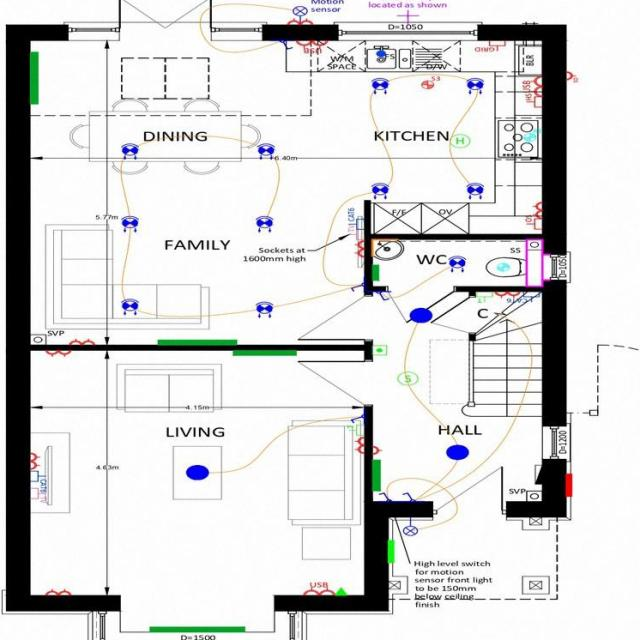BT Entry Point: (334, 587, 345, 594)
Cat 6 Data Socket: (506, 291, 539, 302), (346, 207, 363, 228), (30, 470, 45, 492)
Ceiling Mounted Continuous Extract FanWith Boost Mode Activated By Light Switch: (496, 262, 508, 270)
Ceiling Mounted Continuous Extract FanWith Local Boost Switch: (420, 75, 440, 88)
Co-Ax TV Socket: (29, 487, 46, 502), (347, 225, 363, 238)
Double Socket: (352, 436, 363, 453), (29, 452, 40, 469), (494, 291, 520, 298), (68, 337, 94, 344), (352, 240, 363, 256), (531, 201, 541, 218), (286, 17, 312, 23), (44, 588, 70, 594), (45, 350, 70, 356)
Electric Meter Box: (564, 473, 572, 496)
External Wall Light: (402, 516, 417, 536), (292, 5, 307, 22)
Gas Meter Box: (387, 539, 394, 562)
Grid Switch: (474, 40, 504, 51)
Hob Switch: (524, 93, 542, 106)
Light Switch: (350, 282, 363, 292), (350, 413, 363, 423), (375, 291, 389, 300), (279, 40, 292, 49), (378, 491, 389, 500), (402, 492, 414, 500)
Low Energy Downlighter: (465, 76, 483, 95), (120, 214, 138, 232), (120, 142, 138, 159), (256, 142, 274, 159), (370, 77, 388, 94), (120, 298, 138, 315), (255, 215, 273, 232), (255, 300, 272, 318), (371, 182, 388, 199), (448, 255, 465, 272), (465, 182, 483, 198)
Low Energy Pendant Light: (409, 307, 432, 323), (186, 464, 208, 480), (446, 444, 469, 459)
Mains Wired Smoke Detector: (396, 371, 417, 384)
Outside Socket: (566, 70, 578, 82)
Outside Tap: (396, 10, 419, 23)
Oven Switch: (525, 215, 541, 229)
Programmable Room Thermostat: (372, 344, 386, 354)
Radiator: (150, 626, 244, 632), (29, 51, 38, 104), (157, 339, 236, 344), (232, 350, 296, 354), (372, 459, 380, 490), (372, 264, 378, 280)
Recirculating Extractor Fan: (523, 127, 540, 141)
Single Socket: (371, 445, 381, 454)
Telephone Socket: (346, 423, 363, 435), (476, 291, 492, 303)
USB Double Socket: (301, 581, 334, 594), (295, 40, 327, 53), (522, 75, 541, 95)
Water Entry Position: (376, 50, 385, 56)
